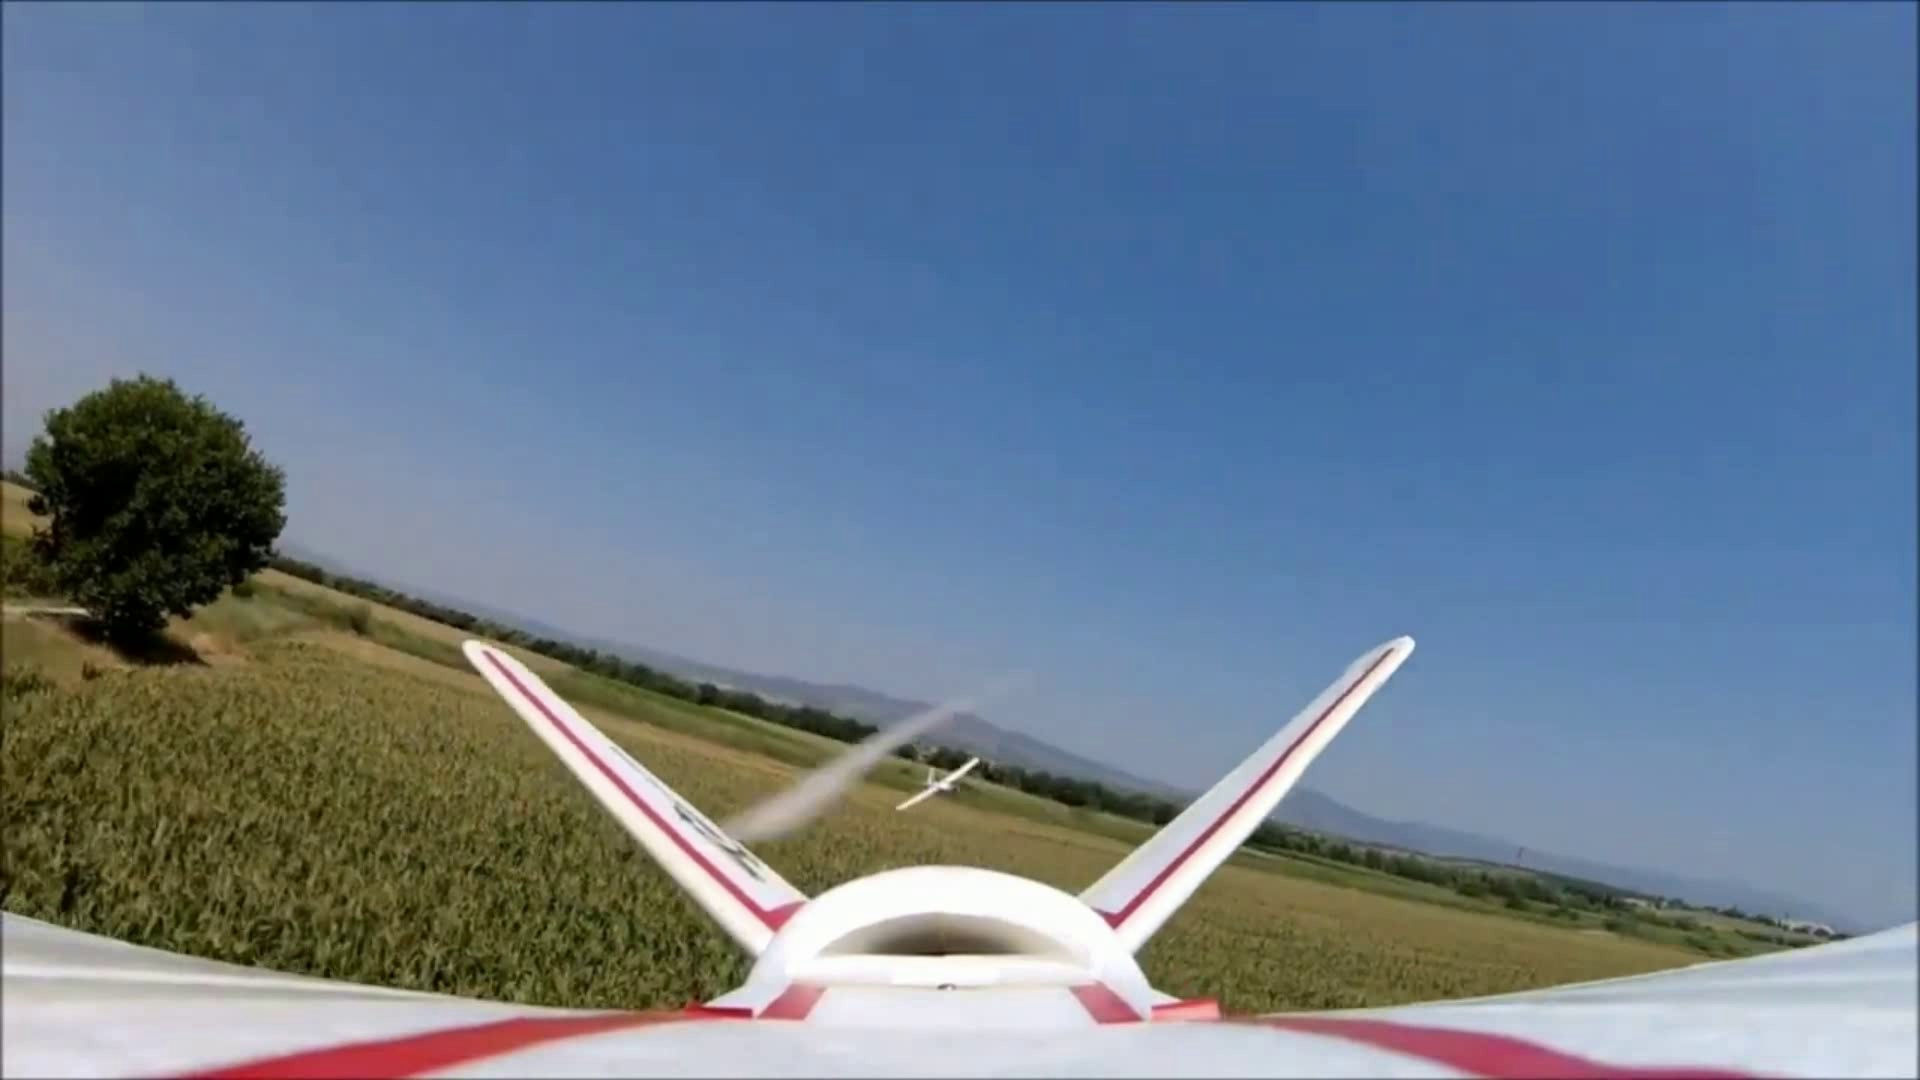airplane: (5, 624, 1888, 1064)
